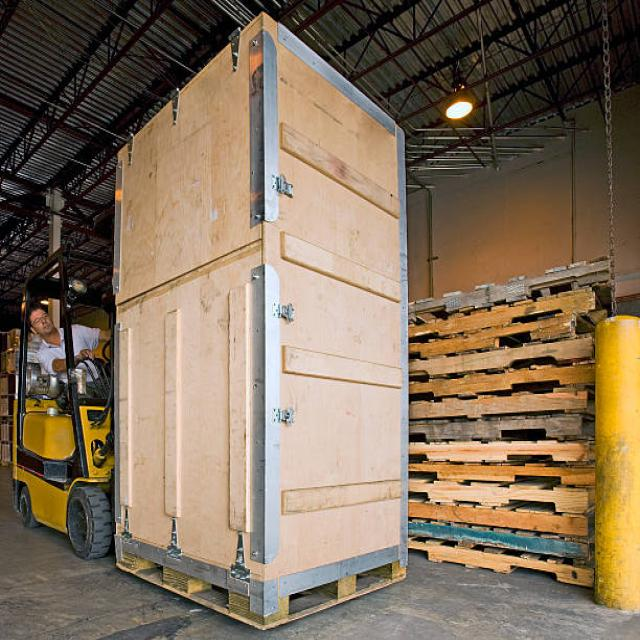Wooden-Pallets: (102, 521, 408, 635), (400, 533, 601, 601), (403, 351, 595, 404), (403, 437, 595, 475)
